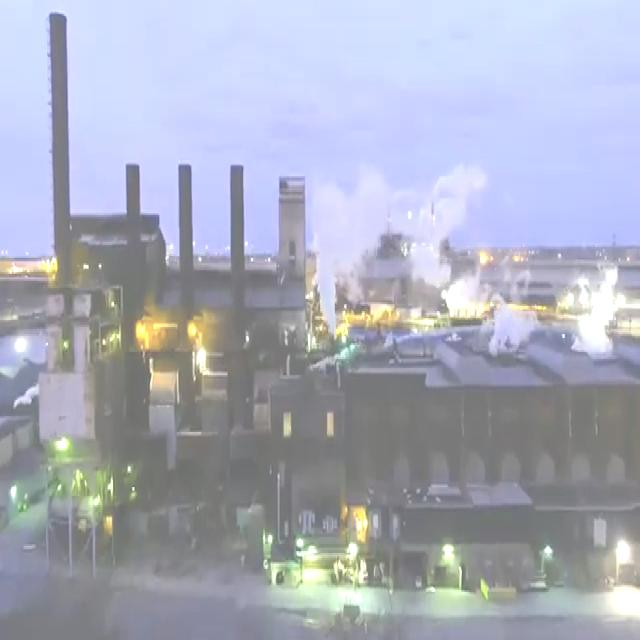smoke: (507, 263, 640, 361), (307, 181, 383, 311), (381, 183, 459, 290), (470, 290, 544, 359)
